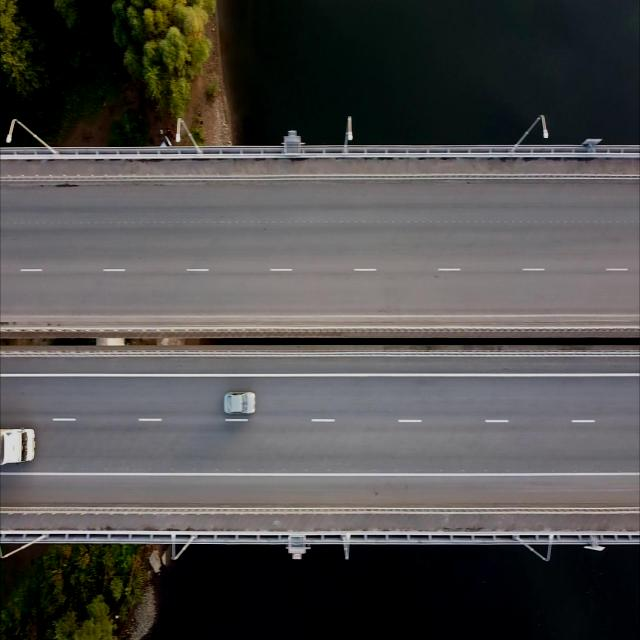Car: (223, 390, 257, 414)
Van: (0, 424, 36, 469)
